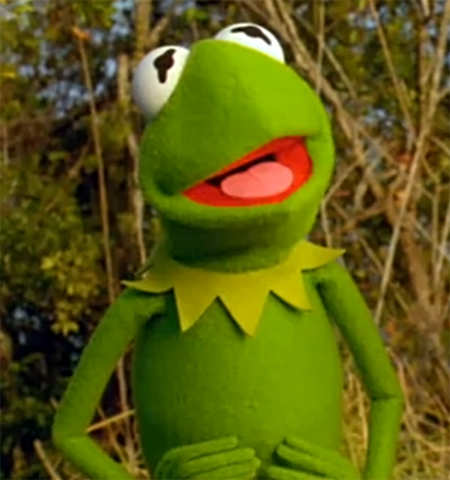kermit: (130, 19, 339, 260)
